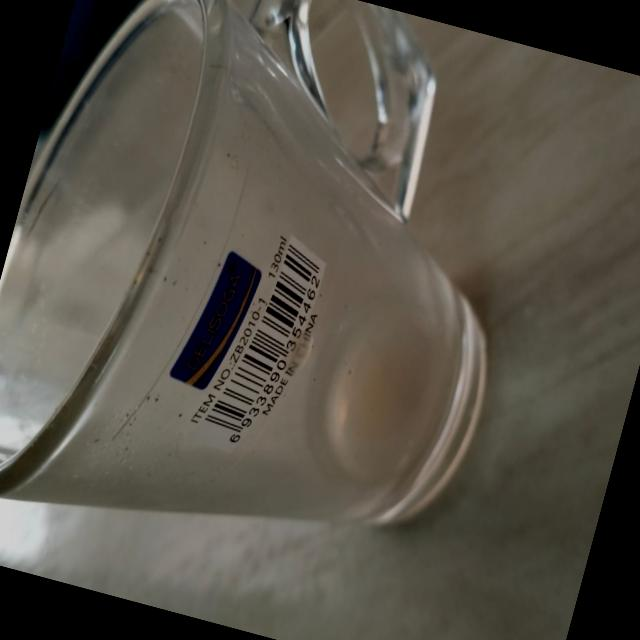glass-VX4N: (0, 0, 580, 621)
